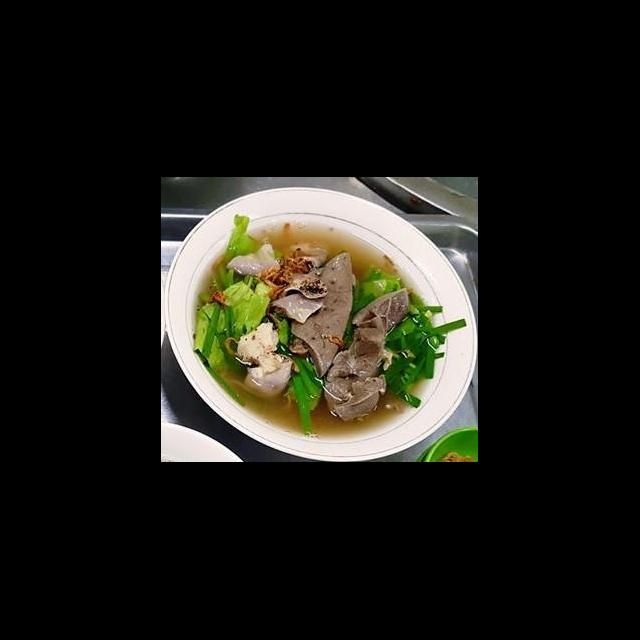gan: (321, 282, 412, 426), (280, 245, 358, 384)
